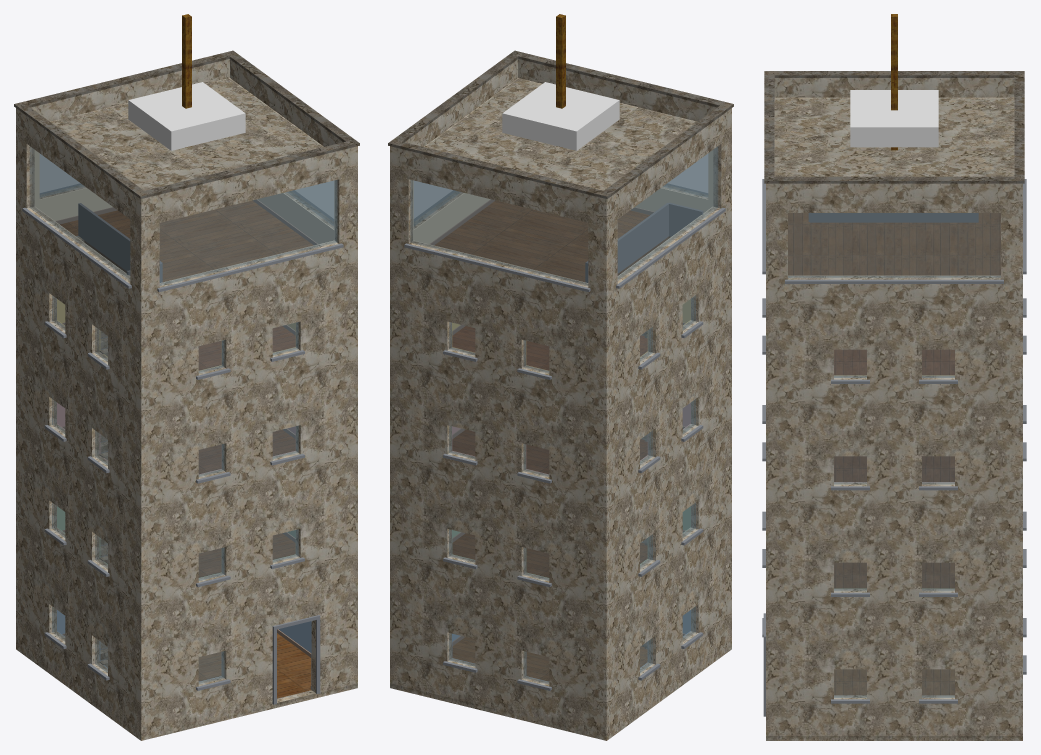
The model's file is control-tower.loc-v1.lod0.glb.
3 views of the same model, side by side, from view 1: azimuth 30°, elevation 25°; view 2: azimuth 150°, elevation 25°; view 3: azimuth 270°, elevation 25° (orthographic). The views are drawn at different scales.
Parts seen in each view (by area): view 1: control-tower; view 2: control-tower; view 3: control-tower.
Boxes of the visible parts, box(x1,y1,x2,y2) form: control-tower: box(14, 14, 359, 740); control-tower: box(388, 14, 733, 740); control-tower: box(762, 14, 1026, 740).
Bounding box in the file's own units: 7.2 × 20.15 × 7.2.
Materials: 5 (3 with a texture image).
